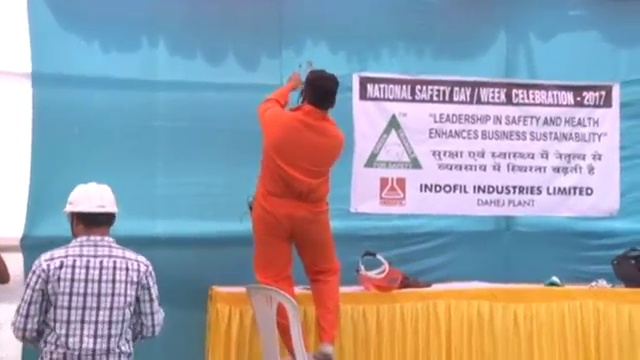helmet: (64, 180, 118, 216)
helmet_off: (302, 68, 338, 114)
helmet_on: (62, 180, 120, 242)
person: (11, 179, 167, 360), (255, 69, 347, 357)
